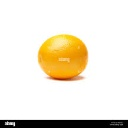orange: (35, 32, 91, 83)
